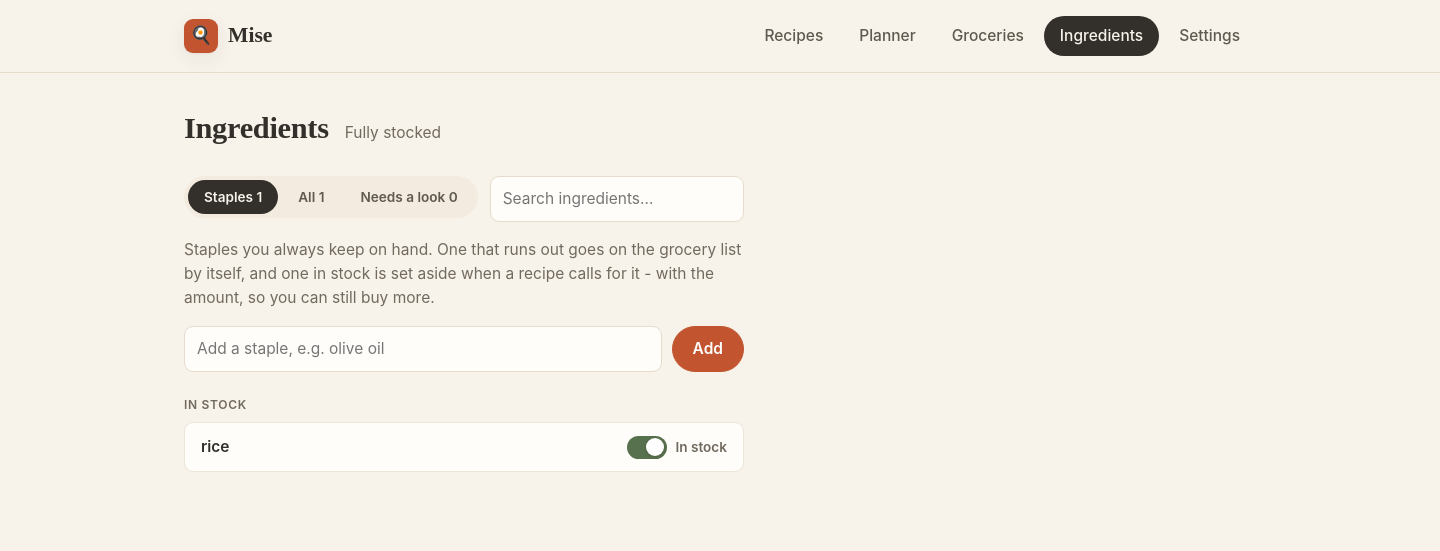
Test case: IngredientsPage: staples › puts the switch back when the server refuses
Expected: the link "rice" is shown, [201,437,230,456]
Click the button "In stock".
click(677, 447)  # box [627,436,727,459]
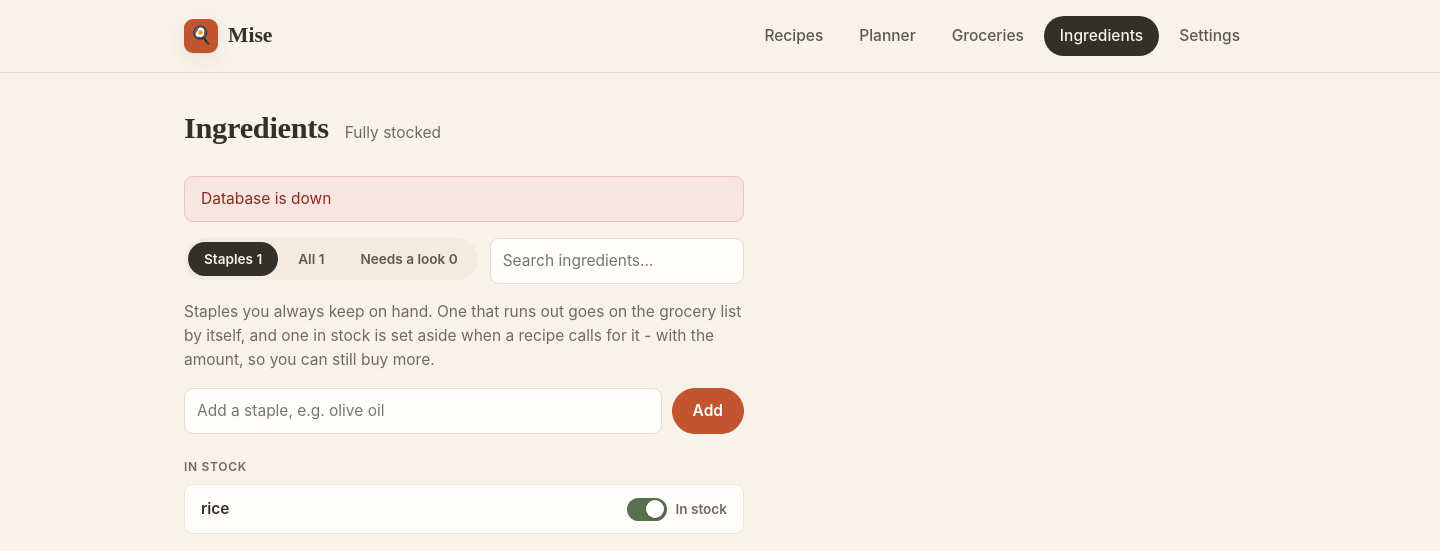
Expected: the text "Database is down" is shown, [184,176,744,222]
